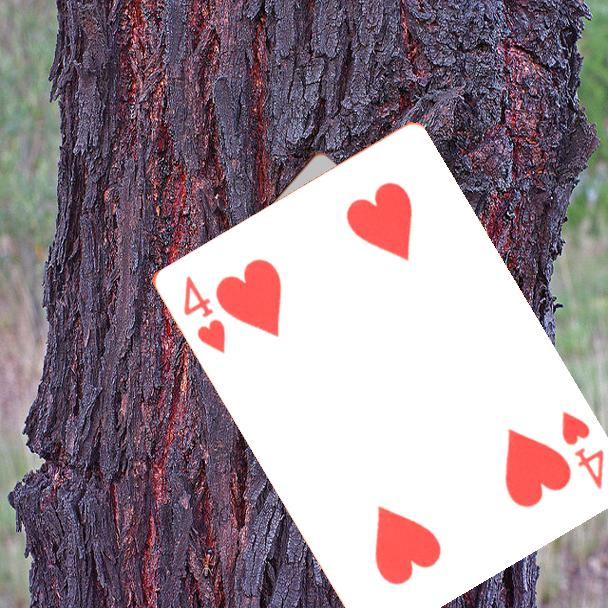h04: (178, 271, 228, 356), (557, 407, 607, 492)
